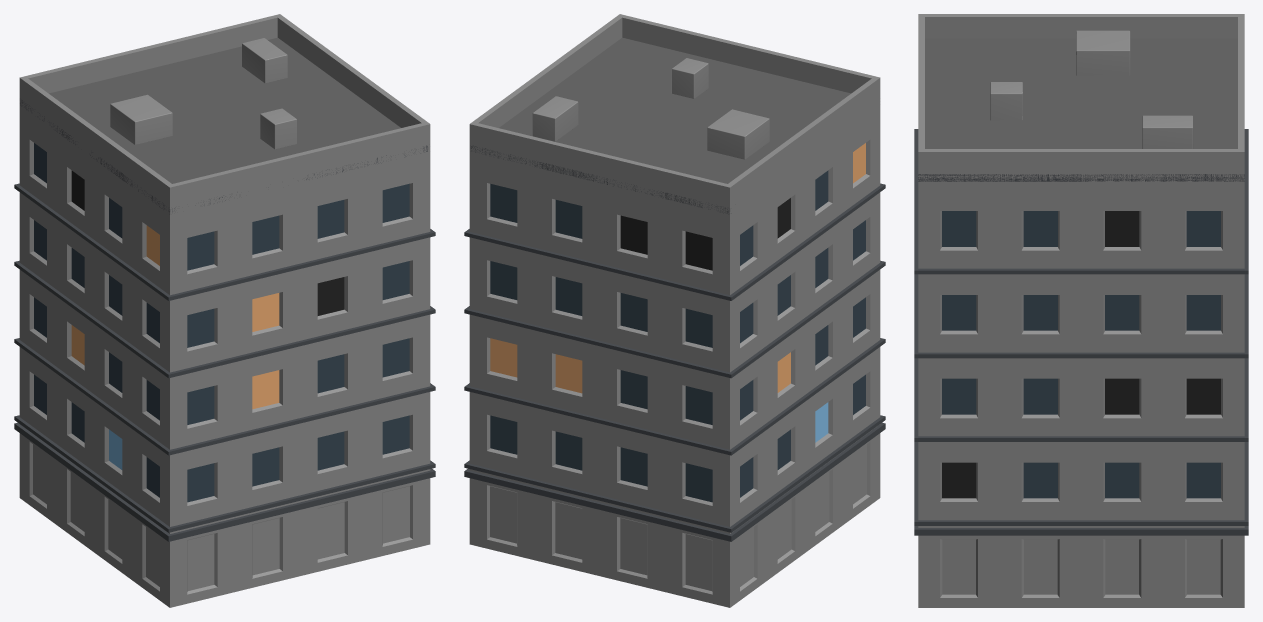
The model's file is Building_Block_A.fbx.
3 renders of one model, left to right at view 1: azimuth 30°, elevation 25°; view 2: azimuth 150°, elevation 25°; view 3: azimuth 270°, elevation 25°, orthographic. The views are drawn at different scales.
Parts seen in each view (by area): view 1: Building_Block_A_LOD0; view 2: Building_Block_A_LOD0; view 3: Building_Block_A_LOD0.
Boxes of the visible parts, x1=… form: Building_Block_A_LOD0: x1=14, y1=14, x2=435, y2=607; Building_Block_A_LOD0: x1=464, y1=14, x2=885, y2=607; Building_Block_A_LOD0: x1=914, y1=14, x2=1248, y2=607.
Size of what is drawn, in the model's own units: 12.3 by 18.73 by 12.3.
